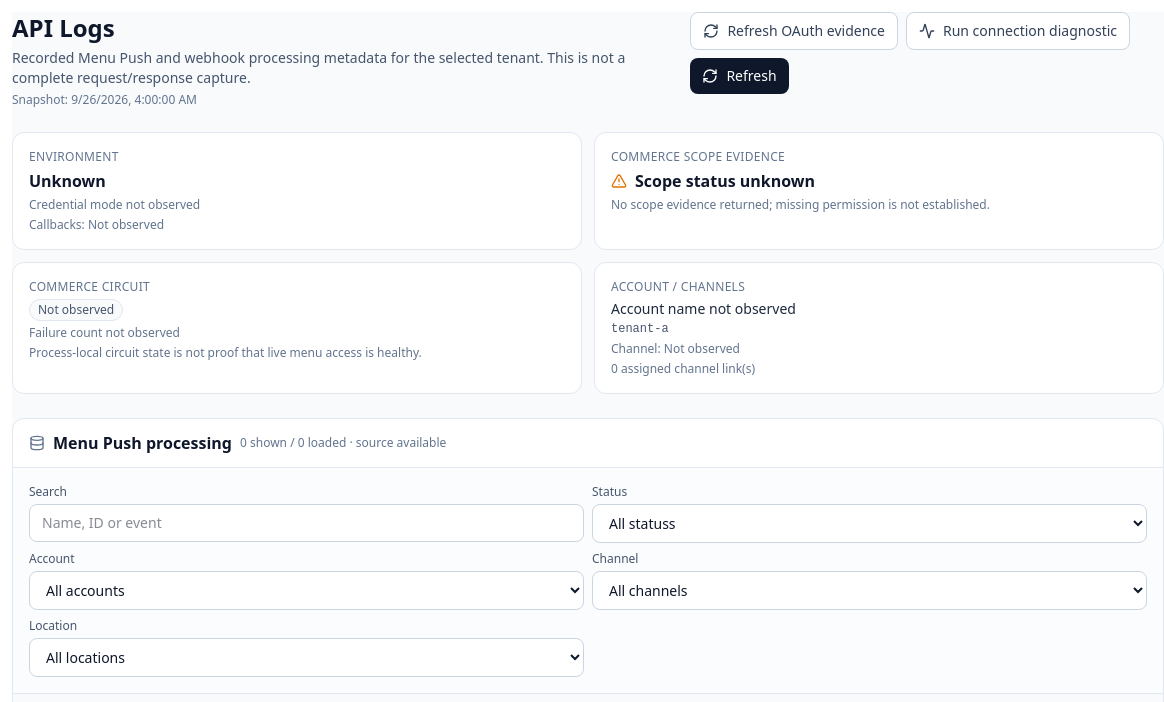
Test: API Logs real component › rejects a diagnostic with missing tenant evidence instead of displaying success
This screenshot has width=1164, height=702.
Click the button "Run connection diagnostic".
click(1018, 31)  # box [906, 12, 1130, 50]
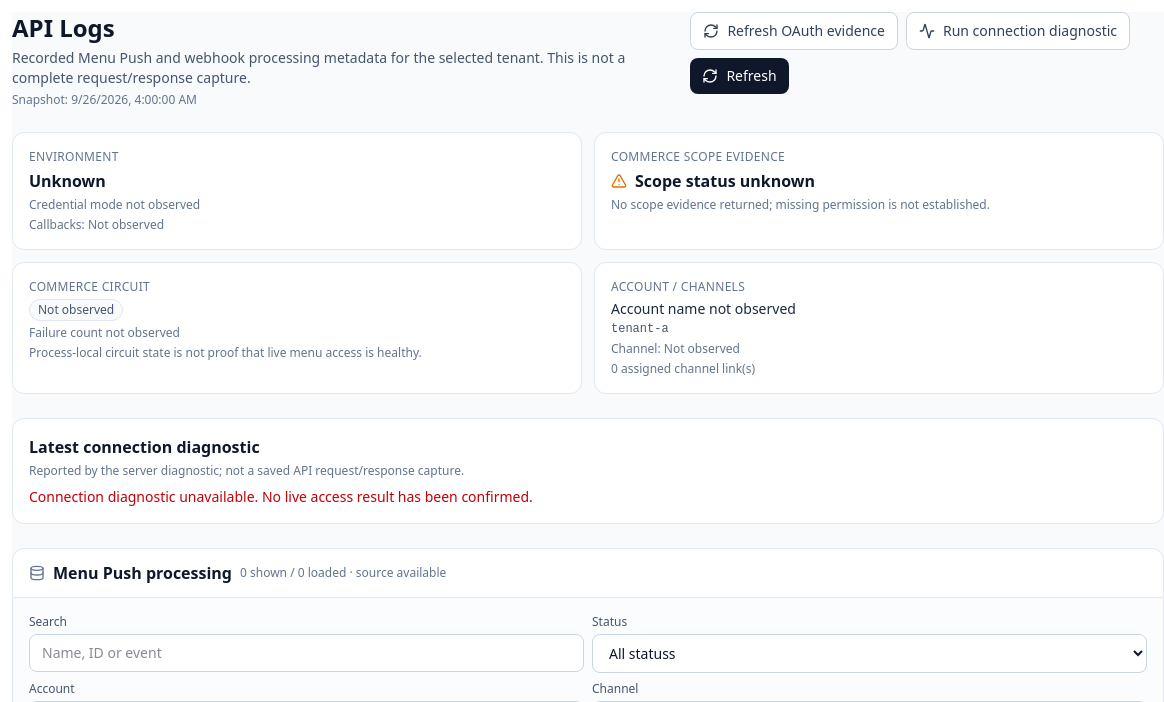
Expected: the text "No live access result has been confirmed" is shown, [29, 487, 533, 506]
